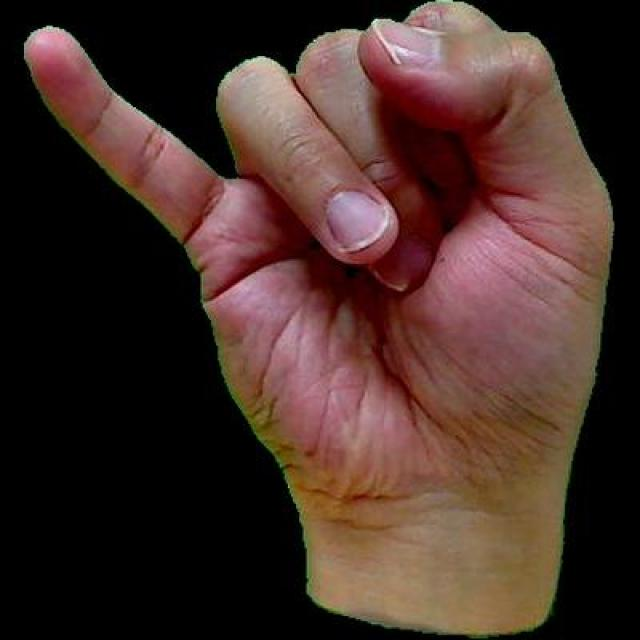j: (0, 0, 614, 637)
